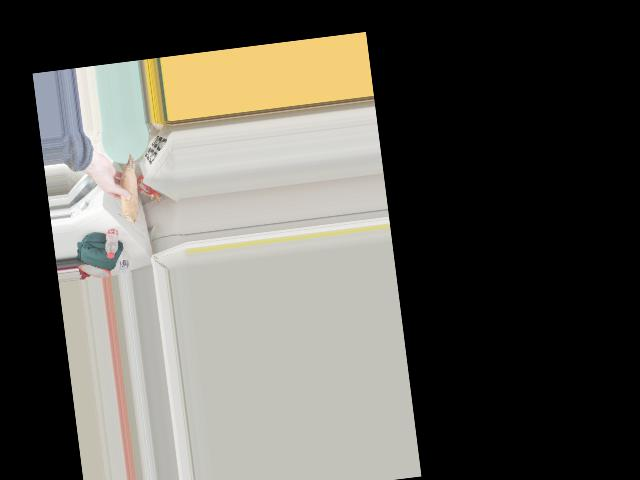sweet_potato: (113, 158, 140, 218)
